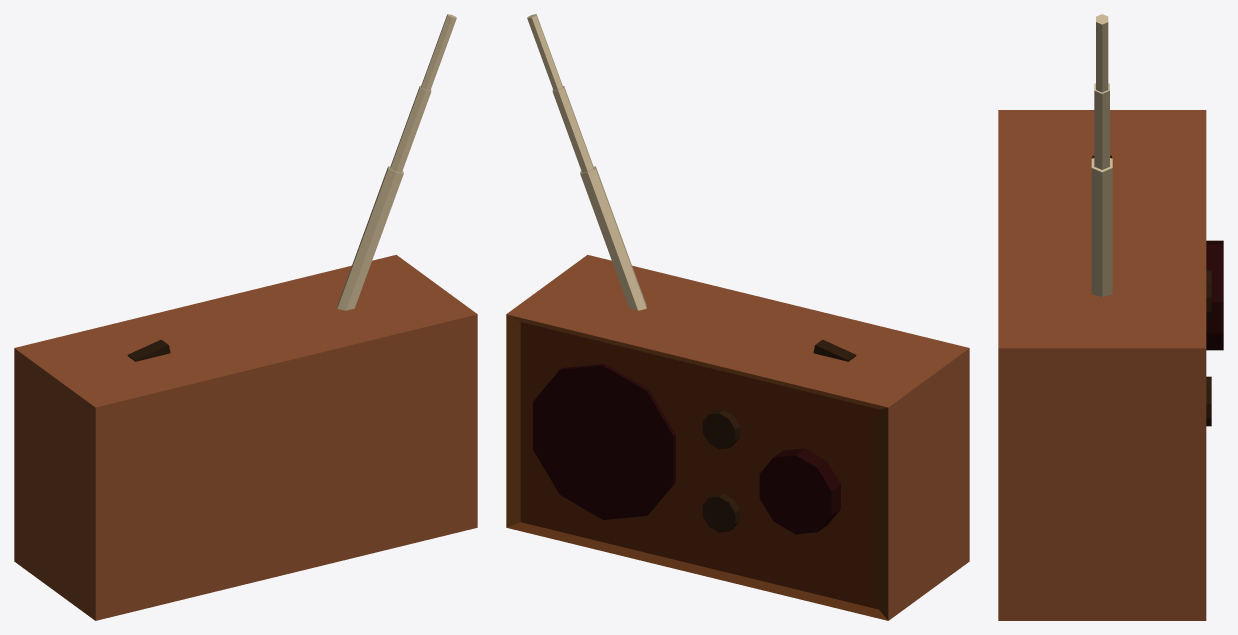
Rendered from Radio.fbx.
3 views of the same model, side by side, from view 1: azimuth 30°, elevation 25°; view 2: azimuth 150°, elevation 25°; view 3: azimuth 270°, elevation 25° (orthographic). The views are drawn at different scales.
Parts seen in each view (by area): view 1: Radio; view 2: Radio; view 3: Radio.
Part boxes in pixels (x1,y1,x2,y2): Radio: [14, 14, 477, 620]; Radio: [506, 14, 969, 620]; Radio: [998, 14, 1223, 620].
Bounding box in the file's own units: 0.2704 × 0.3087 × 0.1028.
